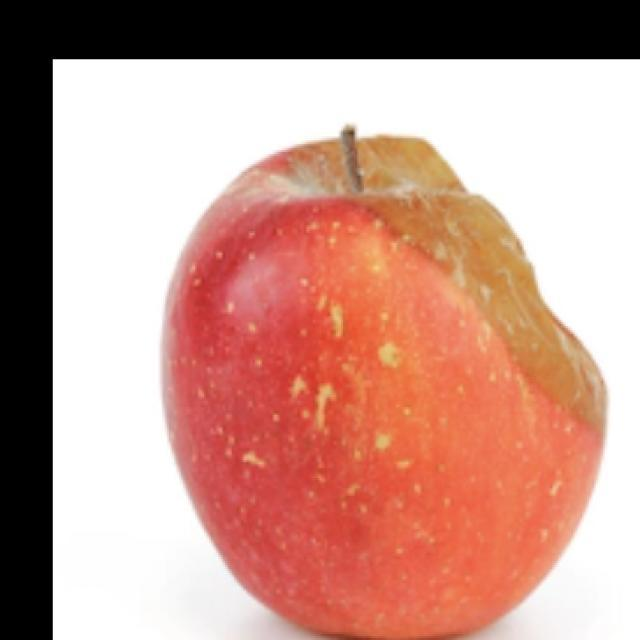Rotten: (176, 141, 550, 640)
